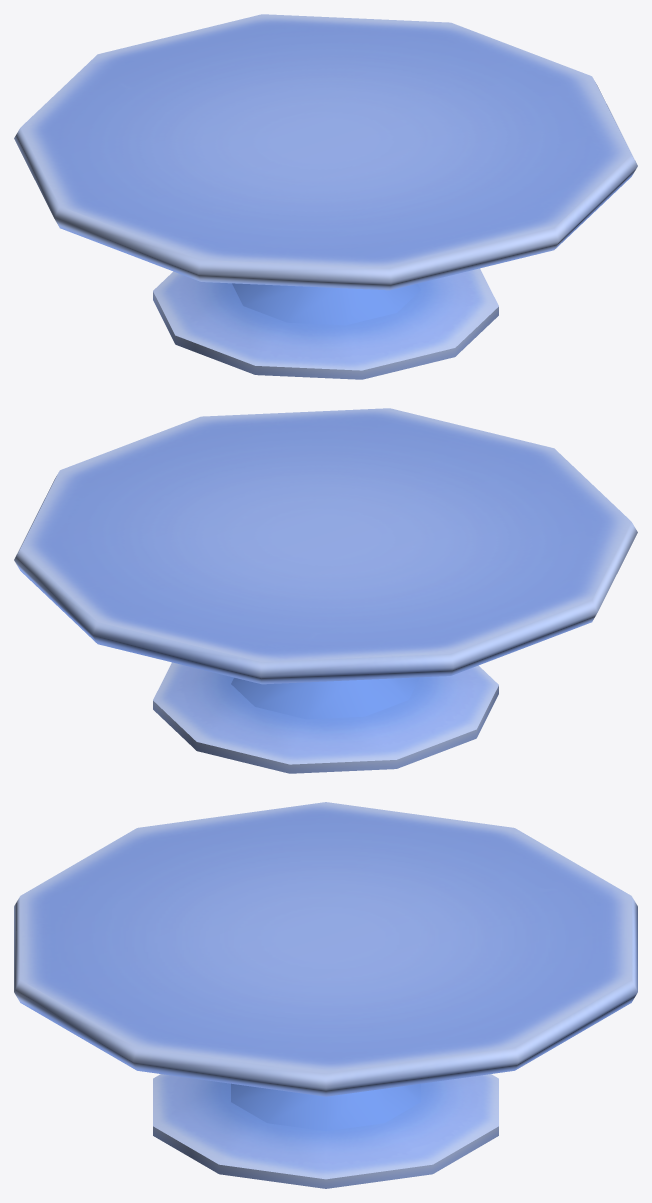
Rendered from Blue_Display_Large.fbx.
3 views of the same model, one above another, from view 1: azimuth 30°, elevation 25°; view 2: azimuth 150°, elevation 25°; view 3: azimuth 270°, elevation 25° (orthographic). The views are drawn at different scales.
Visible parts, largest first — view 1: Blue_Display_Large; view 2: Blue_Display_Large; view 3: Blue_Display_Large.
Boxes of the visible parts, x1=… form: Blue_Display_Large: x1=14, y1=14, x2=637, y2=379; Blue_Display_Large: x1=14, y1=408, x2=637, y2=773; Blue_Display_Large: x1=14, y1=802, x2=637, y2=1188.
Size of the model in its own units: 103 by 30.27 by 98.2.
